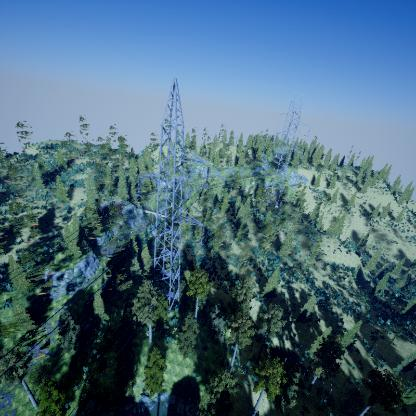tower: (136, 75, 214, 321)
